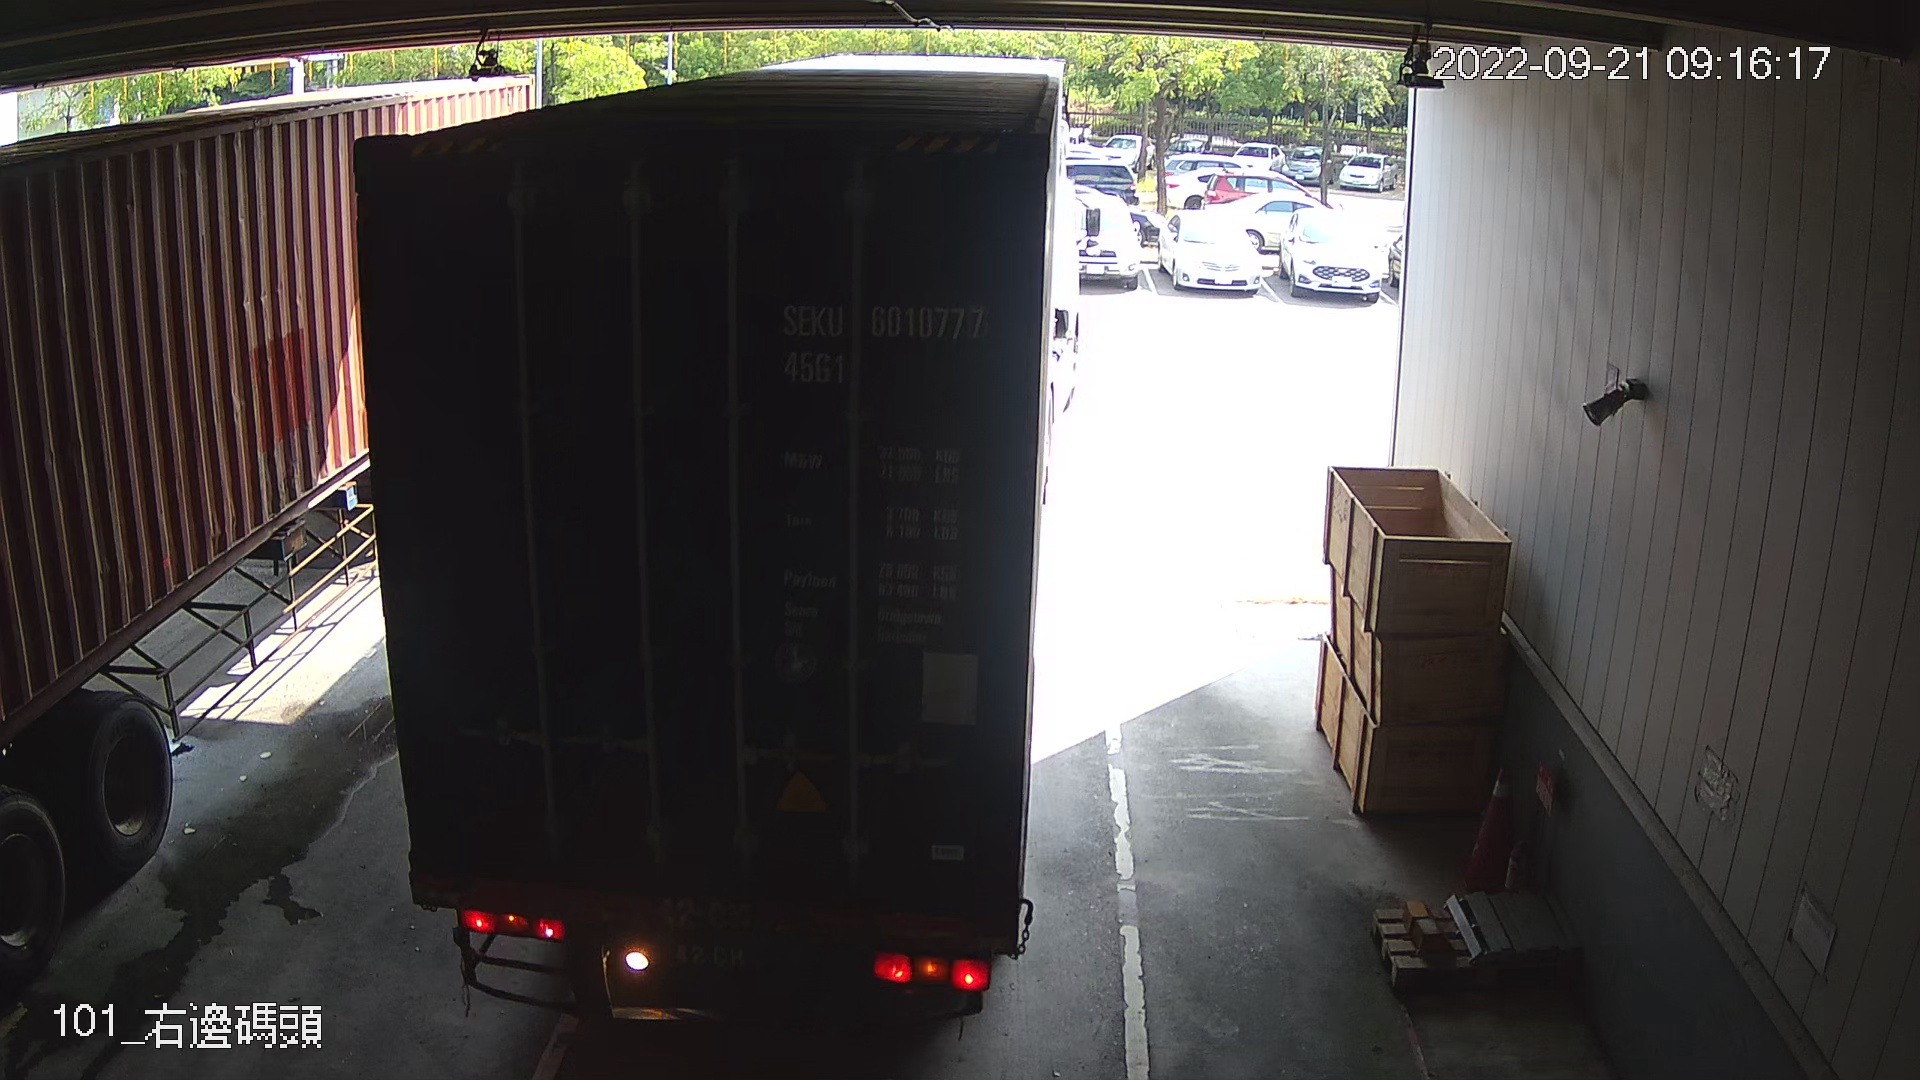container: (770, 289, 1004, 404)
